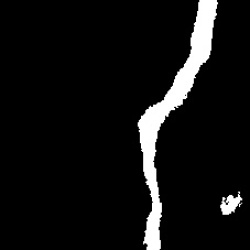crack: (136, 2, 220, 248), (222, 192, 244, 214)
